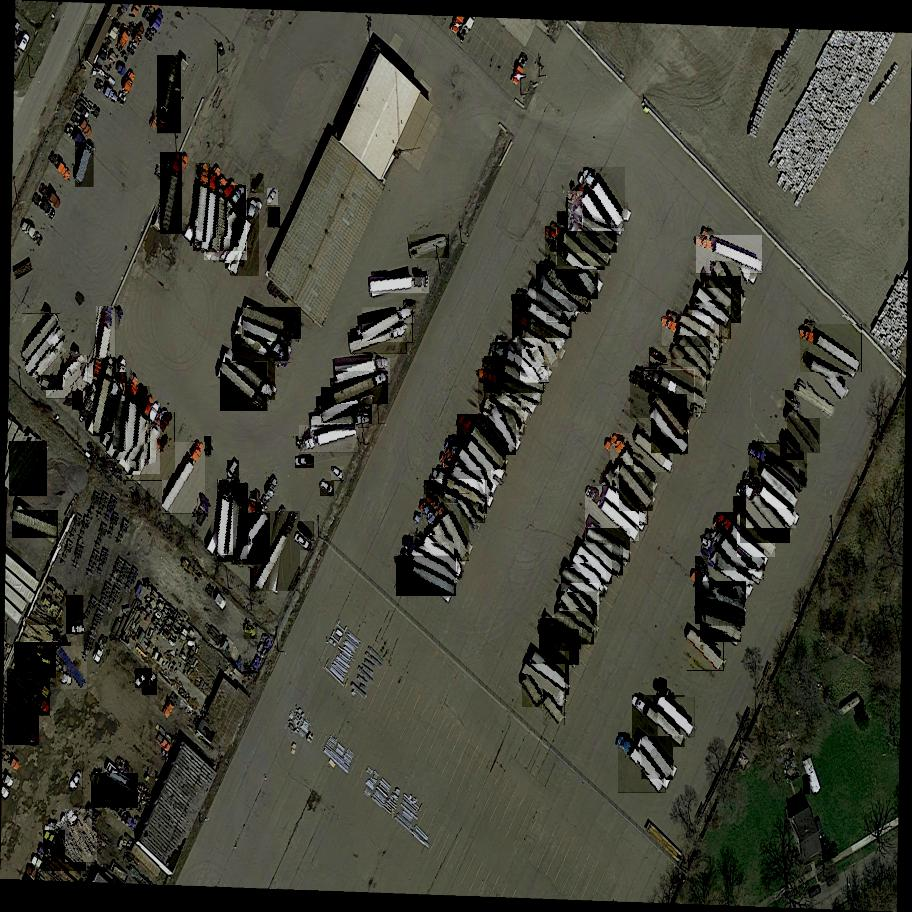large-vehicle: (254, 512, 305, 591), (191, 184, 248, 251), (626, 370, 698, 421), (126, 412, 178, 481), (738, 479, 792, 543), (744, 467, 799, 529), (161, 442, 208, 514), (582, 486, 641, 543), (105, 386, 151, 459), (554, 211, 615, 266), (204, 189, 250, 261), (796, 325, 865, 373), (553, 230, 600, 299), (699, 534, 768, 581), (422, 495, 471, 561), (617, 732, 669, 793), (564, 197, 620, 253), (642, 367, 710, 413), (714, 513, 767, 572), (443, 448, 490, 513), (631, 695, 688, 748), (455, 415, 508, 472), (422, 479, 489, 524), (400, 538, 459, 589), (447, 435, 493, 500), (476, 372, 533, 424), (693, 566, 744, 624), (420, 504, 462, 574), (510, 294, 575, 339), (692, 236, 766, 275), (534, 264, 594, 312), (543, 225, 607, 270), (746, 444, 810, 489), (430, 467, 491, 514), (582, 167, 629, 228), (609, 433, 652, 498), (660, 316, 723, 360), (125, 404, 164, 475), (223, 349, 277, 400), (521, 299, 561, 367), (240, 308, 289, 363), (706, 538, 748, 602), (394, 556, 459, 596), (490, 343, 553, 384), (566, 190, 629, 231), (218, 483, 250, 562), (219, 363, 270, 412), (229, 199, 261, 276), (476, 370, 544, 405), (482, 357, 548, 393), (8, 441, 50, 497), (4, 669, 54, 716), (11, 642, 75, 678), (24, 328, 69, 376), (231, 513, 272, 565), (90, 789, 140, 831), (20, 314, 62, 363), (241, 308, 304, 340), (320, 387, 373, 425), (808, 353, 849, 402), (362, 307, 416, 344), (41, 831, 88, 873), (43, 825, 96, 862), (157, 56, 182, 134), (4, 434, 38, 491), (333, 371, 390, 405), (45, 356, 90, 399), (93, 359, 118, 436), (704, 276, 744, 324), (529, 652, 572, 696), (64, 809, 99, 863), (420, 540, 467, 580), (89, 773, 141, 809), (520, 665, 568, 704), (159, 153, 182, 234), (735, 515, 779, 557), (559, 592, 599, 638), (670, 346, 710, 392), (230, 335, 291, 365), (632, 432, 676, 473), (649, 411, 689, 455), (584, 528, 634, 563), (618, 465, 656, 511), (759, 467, 801, 508), (0, 703, 40, 746), (464, 445, 510, 482), (350, 326, 408, 355), (516, 325, 557, 366), (299, 426, 359, 454), (657, 696, 697, 738), (559, 583, 603, 621), (677, 336, 714, 381), (652, 395, 689, 440), (483, 400, 529, 436), (792, 383, 839, 418), (686, 630, 726, 671), (683, 315, 726, 353), (15, 654, 47, 705), (559, 568, 605, 603), (693, 289, 734, 328), (582, 540, 626, 576), (786, 410, 822, 454), (687, 306, 735, 339), (526, 288, 571, 323), (537, 630, 582, 665), (97, 307, 117, 385), (575, 545, 615, 584), (641, 736, 676, 780), (553, 611, 597, 646), (335, 358, 392, 385), (23, 624, 62, 663), (573, 555, 608, 598), (538, 618, 585, 650), (712, 263, 744, 310), (55, 645, 89, 689), (600, 495, 651, 524), (612, 472, 643, 519), (10, 511, 62, 539), (544, 278, 577, 322), (519, 338, 551, 383), (488, 407, 518, 455), (201, 174, 219, 252), (697, 600, 747, 627), (40, 335, 64, 390), (22, 617, 66, 647), (697, 615, 744, 642), (218, 479, 234, 555), (196, 163, 211, 242), (113, 372, 128, 449), (408, 235, 450, 260), (371, 277, 430, 294), (130, 395, 143, 471), (75, 142, 95, 187), (230, 517, 254, 550), (67, 594, 86, 634), (778, 435, 807, 461), (521, 676, 545, 707), (542, 696, 567, 725), (311, 417, 369, 428)
small-vehicle: (97, 404, 116, 436), (134, 668, 155, 689), (647, 347, 670, 366), (94, 361, 113, 383), (298, 521, 318, 541), (141, 674, 160, 695), (156, 434, 173, 457), (294, 532, 314, 551), (155, 733, 174, 753), (68, 770, 85, 791), (249, 174, 266, 193), (110, 383, 127, 402), (226, 460, 242, 480), (267, 207, 282, 228), (70, 392, 87, 410), (241, 624, 261, 639), (732, 496, 749, 513), (784, 391, 802, 407), (266, 189, 281, 207), (318, 482, 337, 496), (329, 466, 346, 481), (694, 557, 709, 574), (472, 418, 489, 432), (250, 568, 260, 591), (295, 457, 314, 469), (205, 436, 212, 455), (251, 491, 257, 513), (404, 300, 416, 309), (805, 775, 810, 793)
